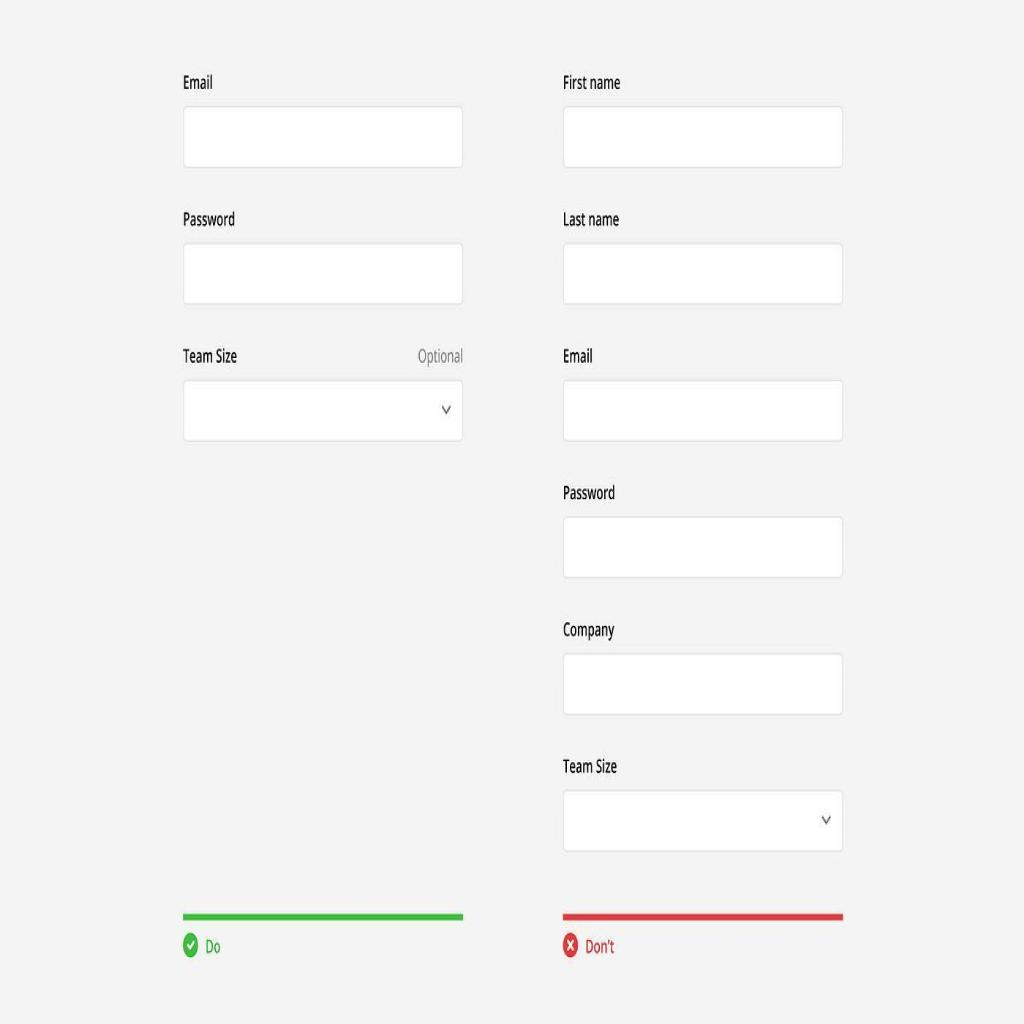dropdown: (560, 786, 846, 858), (180, 375, 464, 447)
input: (560, 101, 846, 174), (562, 512, 845, 584), (561, 238, 844, 310), (180, 239, 466, 309), (559, 648, 845, 717), (179, 104, 467, 172), (562, 379, 846, 447)
label: (560, 200, 622, 231), (559, 70, 623, 98), (182, 341, 240, 366), (565, 754, 621, 778), (560, 484, 618, 506), (560, 620, 618, 642), (182, 208, 236, 230), (181, 70, 213, 92), (560, 346, 595, 365)
